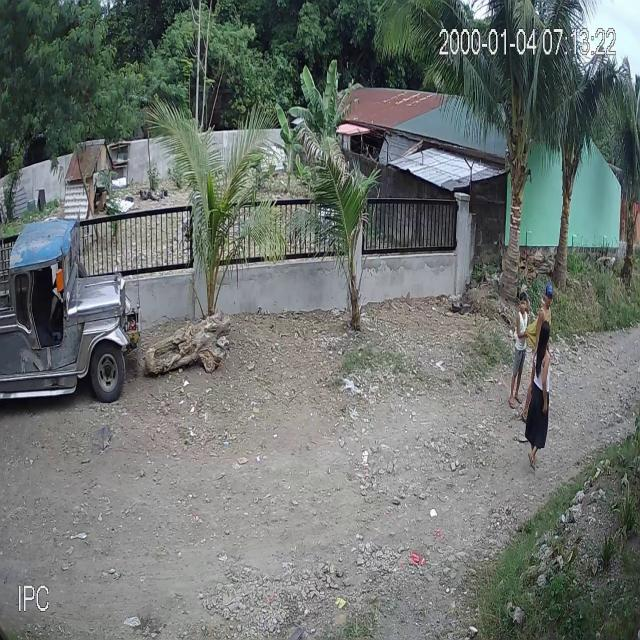standing: (520, 281, 554, 430), (508, 293, 530, 412)
walking: (524, 317, 555, 478)
